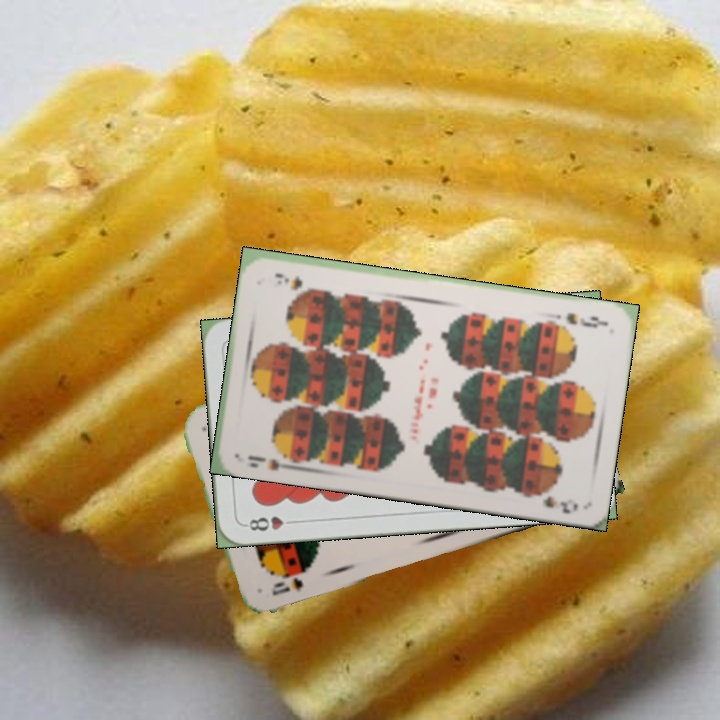H8: (241, 512, 300, 534)
S9: (243, 447, 296, 474), (562, 309, 610, 330)
SO: (268, 573, 306, 598)
